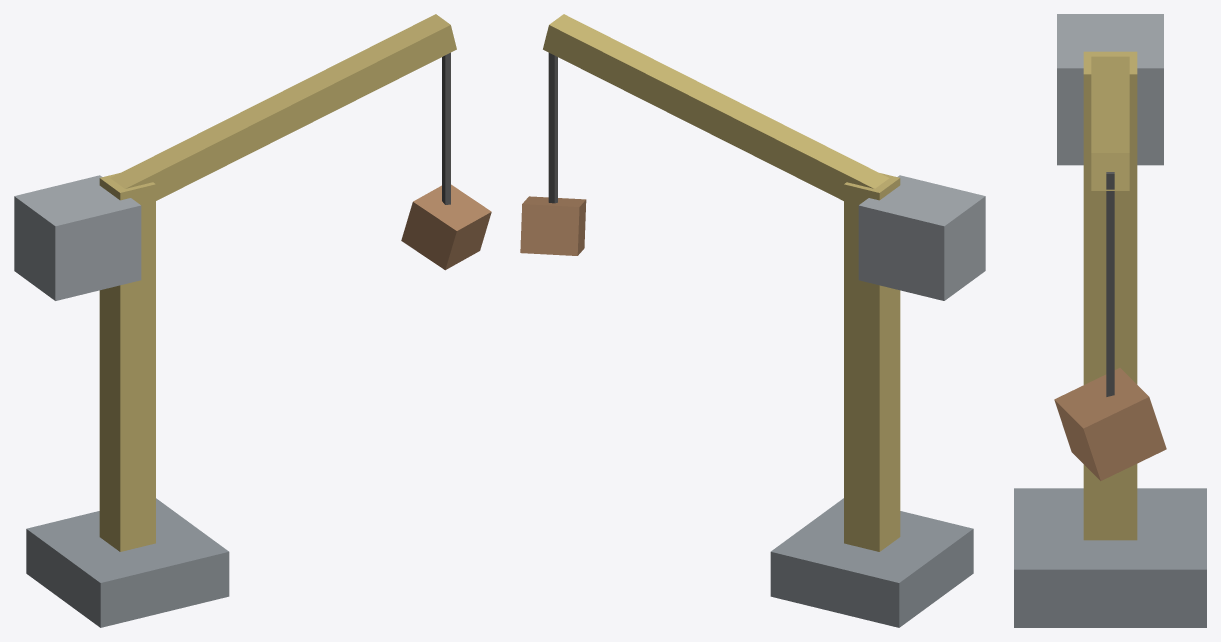
File: valak_guindaste_2.glb
3 renders of one model, left to right at view 1: azimuth 30°, elevation 25°; view 2: azimuth 150°, elevation 25°; view 3: azimuth 270°, elevation 25°, orthographic. The views are drawn at different scales.
Visible parts, largest first — view 1: guindaste; view 2: guindaste; view 3: guindaste.
Boxes of the visible parts, bbox=[...] form: guindaste: bbox=[14, 14, 491, 627]; guindaste: bbox=[520, 14, 985, 627]; guindaste: bbox=[1014, 14, 1206, 627].
Size of the model in its own units: 3.12 by 3.27 by 0.9.
